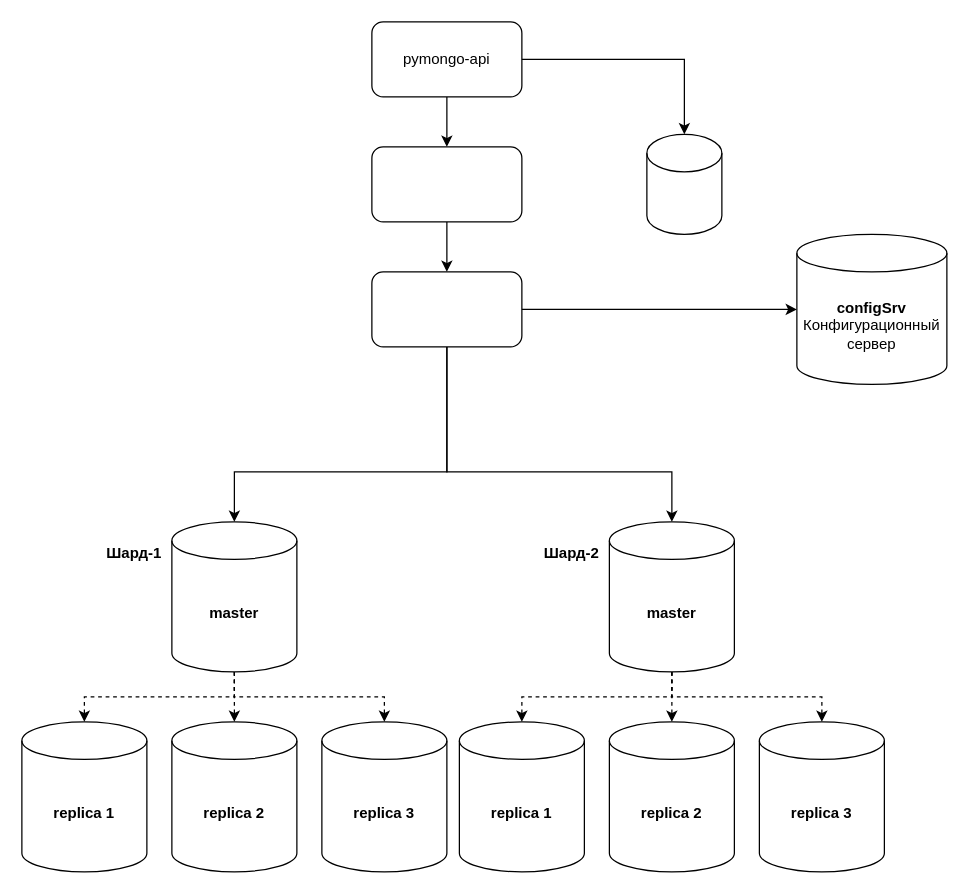
This 969x894 diagram has some shape labels left out. The box of each missing label's shape, as (x1, y1, x2, y2) in pixels:
mongos (router): (371, 271, 522, 347)
Redis: (646, 133, 722, 234)
драйвер: (371, 146, 522, 222)
